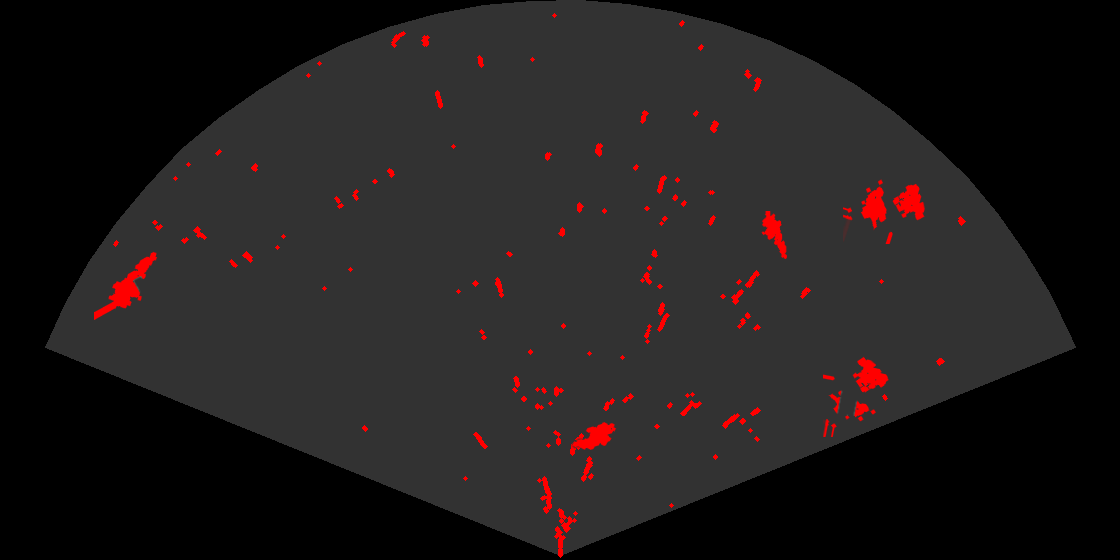AUV: (571, 421, 618, 451)
cage: (843, 178, 927, 244), (823, 355, 890, 437)
frogman: (94, 250, 159, 320), (760, 211, 789, 259)
